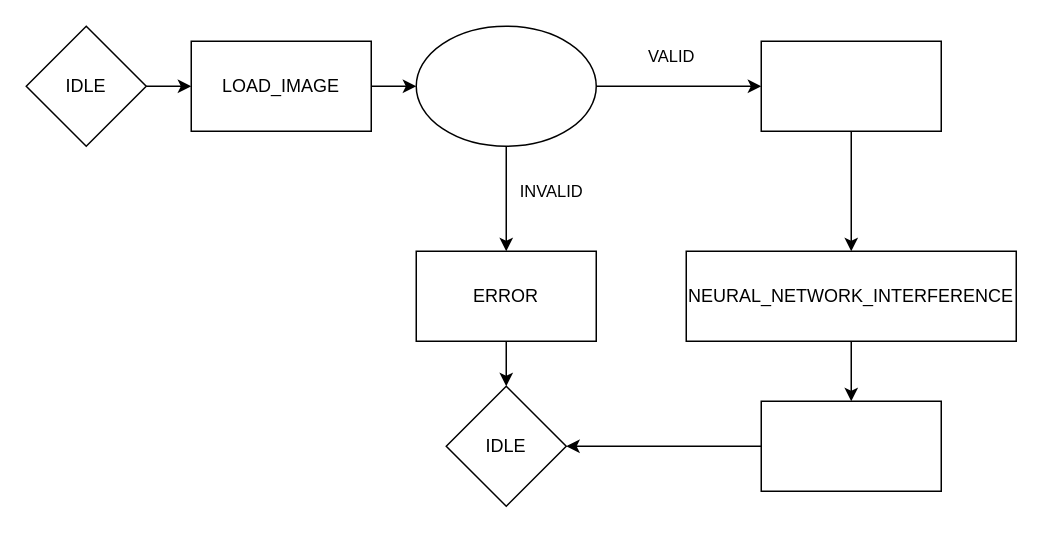
Image size: 1043x533. Some labels were removed from this diagram. Here are the shapes that lost their labels. From the top down, the centre of each, then its label:
the point at 505,85: VALID_IMAGE?
the point at 850,85: PREPROCESS
the point at 850,445: DISPLAY_RESULTS
